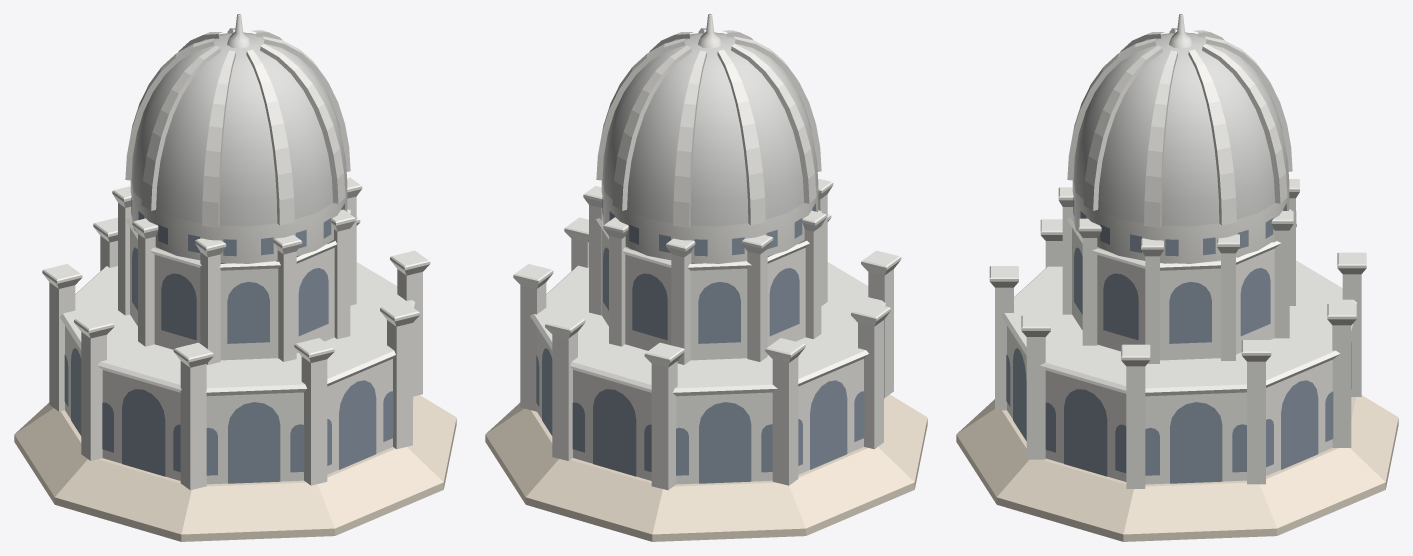
Rendered from chi-bahai-temple.glb.
The picture shows the model from 3 angles, left to right: view 1: azimuth 30°, elevation 25°; view 2: azimuth 150°, elevation 25°; view 3: azimuth 270°, elevation 25°; orthographic projection.
Visible parts, largest first — view 1: Bahá'í House of Worship; view 2: Bahá'í House of Worship; view 3: Bahá'í House of Worship.
Boxes of the visible parts, <box> form: Bahá'í House of Worship: <box>14,14,456,541</box>; Bahá'í House of Worship: <box>485,14,927,541</box>; Bahá'í House of Worship: <box>956,14,1398,541</box>.
Bounding box in the file's own units: 53.68 × 58.2 × 53.65.
